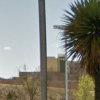Palm tree: (58, 5, 99, 85)
